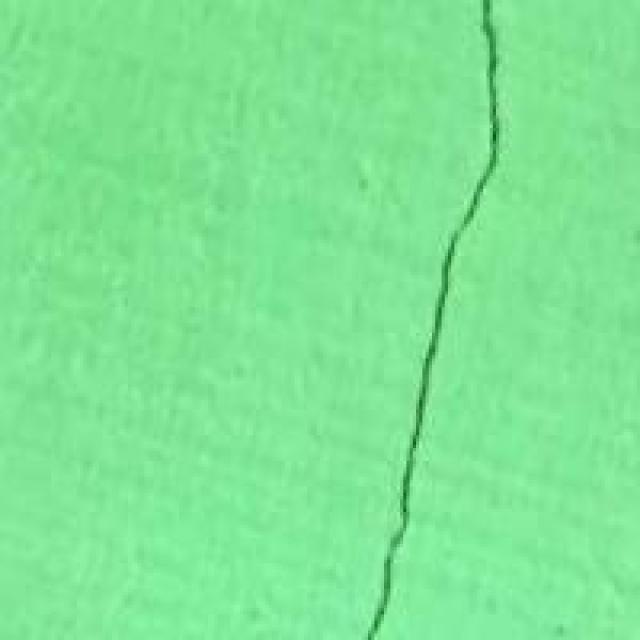crack: (336, 6, 547, 637)
